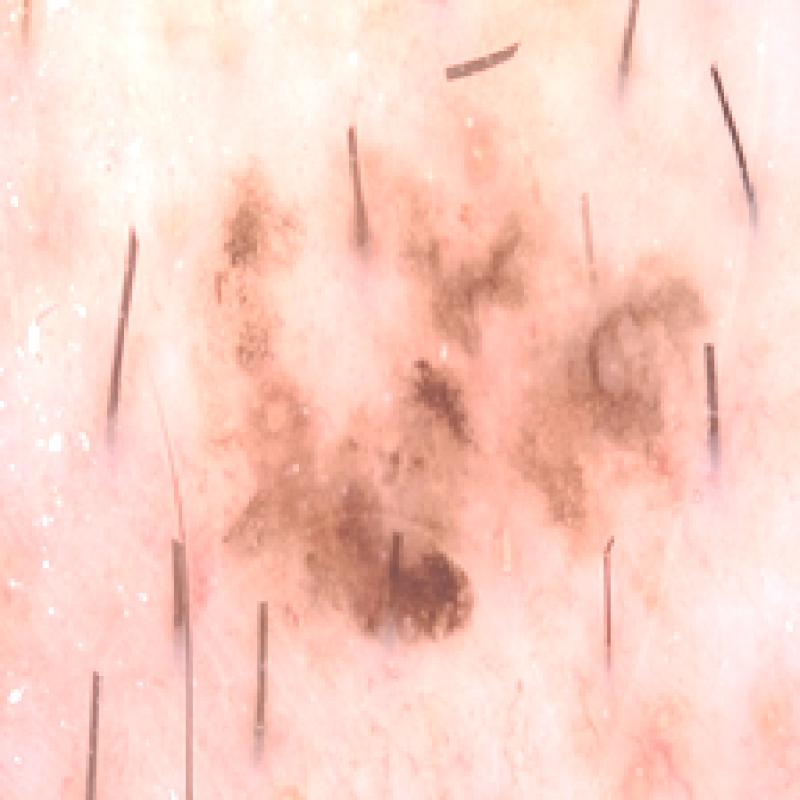malignant: (135, 41, 746, 660)
